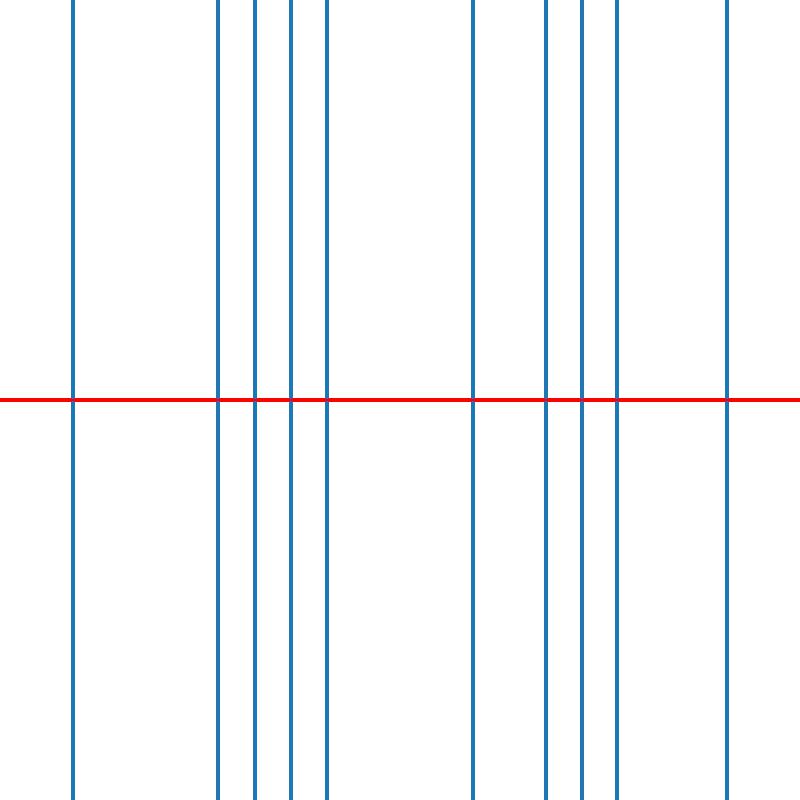root: (541, 396, 549, 404), (250, 396, 258, 404), (214, 396, 221, 404), (614, 396, 621, 404), (287, 396, 294, 404), (723, 396, 730, 404), (469, 396, 476, 404), (578, 396, 585, 404), (69, 396, 76, 404), (323, 396, 330, 404)
